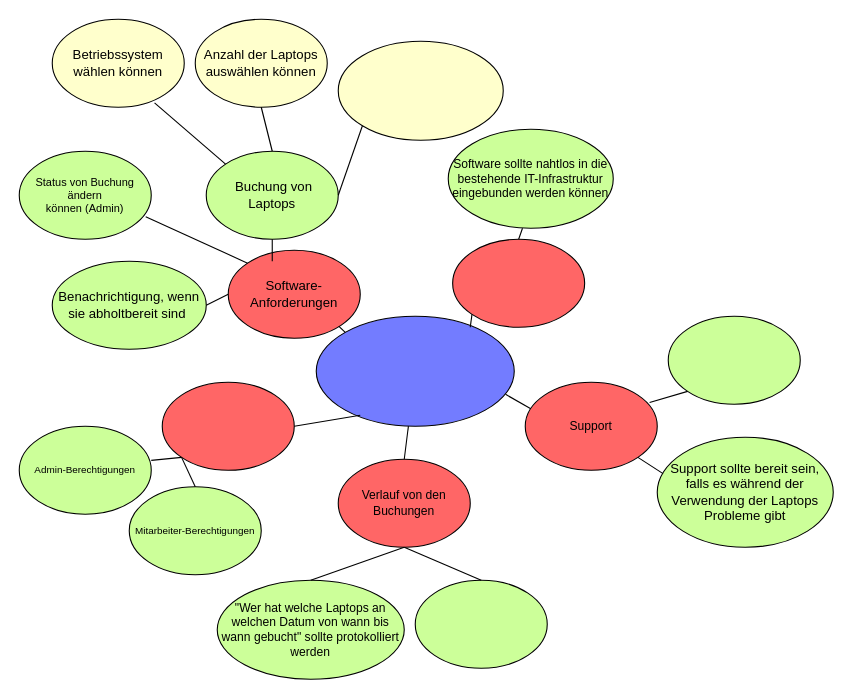
The diagram is 853 pixels wide and 699 high, and some of its shapes have lost their labels. Here are the shapes that lost their labels. From the top down, the box of each, then its label:
(337, 40, 503, 140): Angaben von Zeiten (Von wann bis wann braucht man die Laptops. Datum und Zeit)
(452, 238, 585, 327): Integration in bestehende System
(315, 315, 514, 426): Software für Buchung von Laptops
(667, 315, 800, 404): Nach Rückgabe Laptops kontrollieren
(161, 381, 294, 470): Benutzerberechtigungen
(414, 579, 547, 668): Bericht von dem Zustand des Laptops
